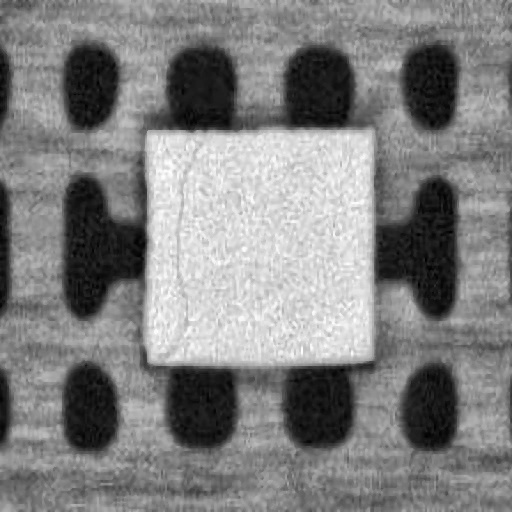DIE_CRACK: (160, 138, 200, 358)
